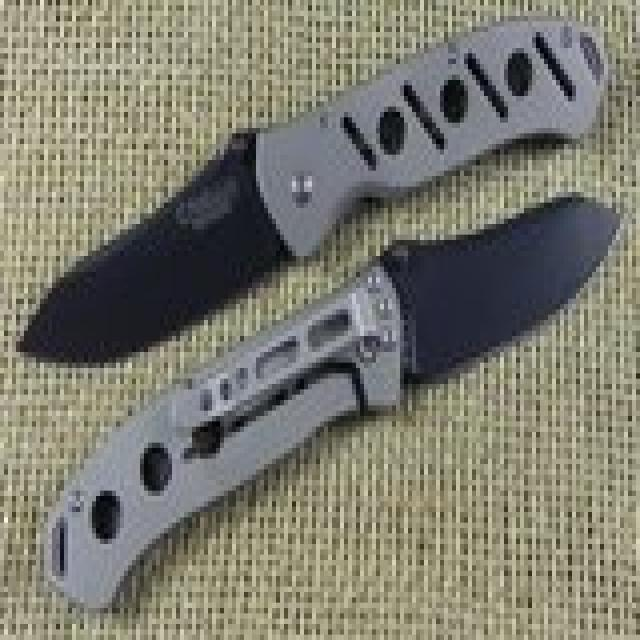Knife: (10, 11, 616, 632)
